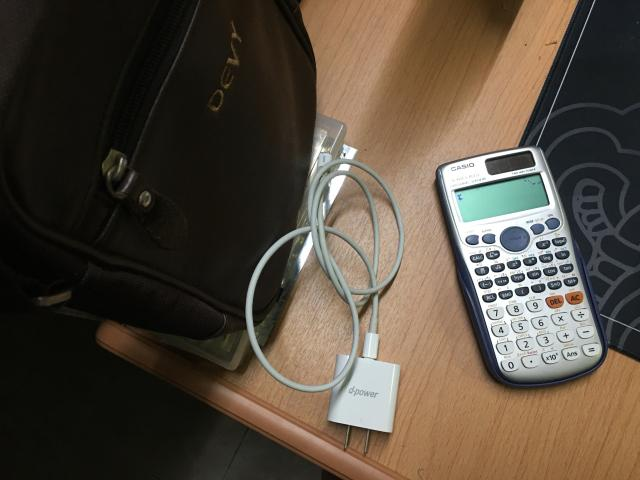wire: (249, 118, 407, 436)
